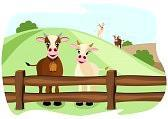cow: (26, 36, 70, 104), (73, 39, 99, 107), (111, 33, 123, 48), (96, 21, 105, 38)
